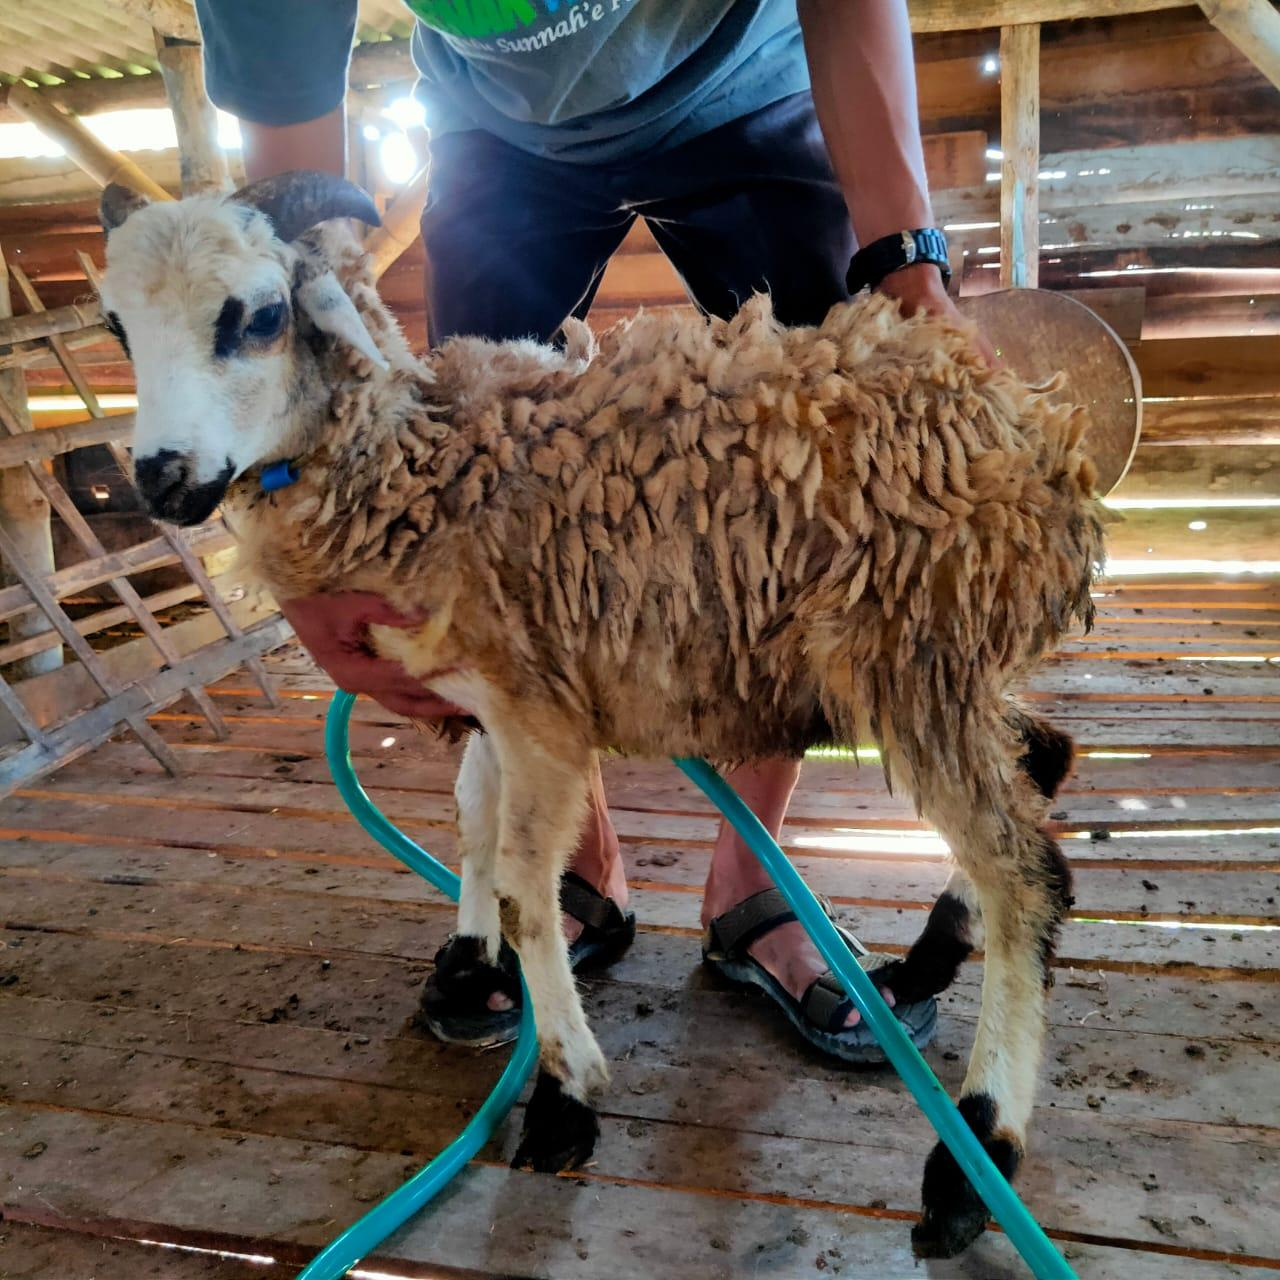Sheep: (67, 157, 453, 538)
